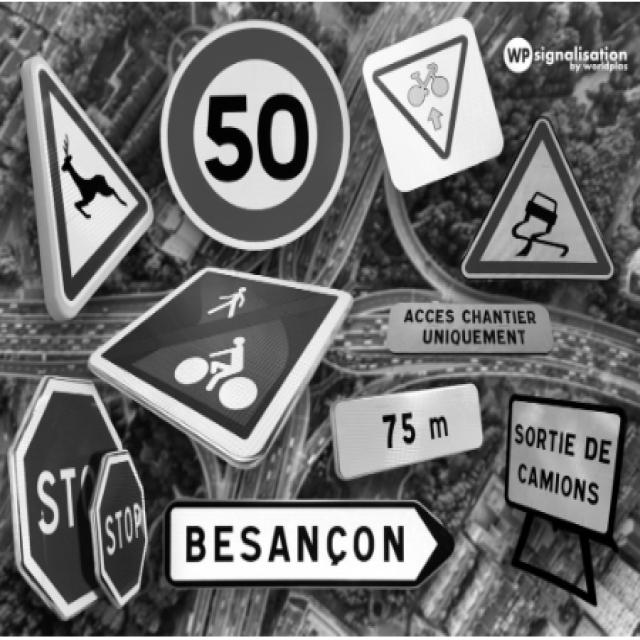animal_danger: (25, 57, 157, 316)
danger: (463, 118, 614, 283)
direction: (162, 496, 468, 588)
end_indication: (94, 264, 356, 469)
let_go: (6, 377, 126, 620), (92, 451, 152, 603)
speed_50: (160, 28, 354, 251)
